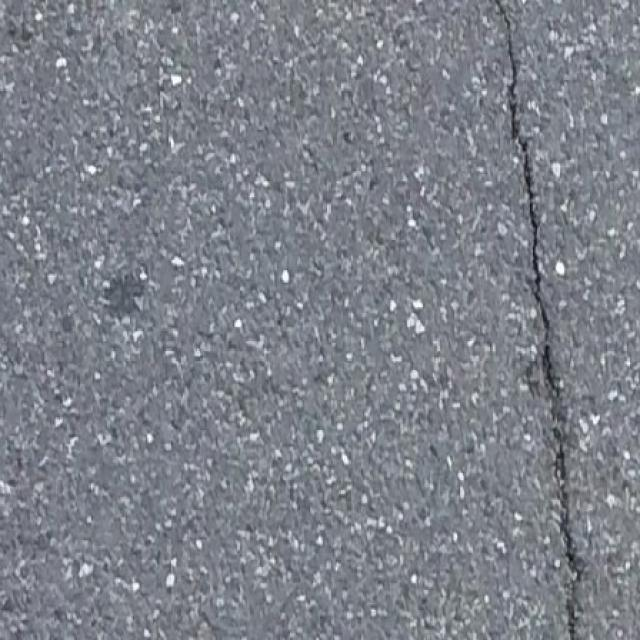Vertical Crack: (490, 0, 585, 640)
